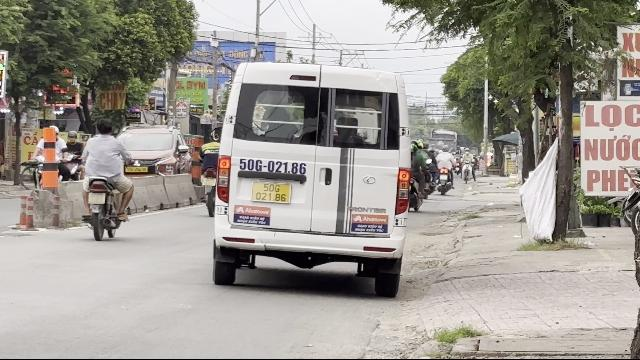licenseplate: (88, 193, 104, 204)
motorcyclist: (78, 116, 134, 240)
nohelmet: (95, 117, 113, 134)
